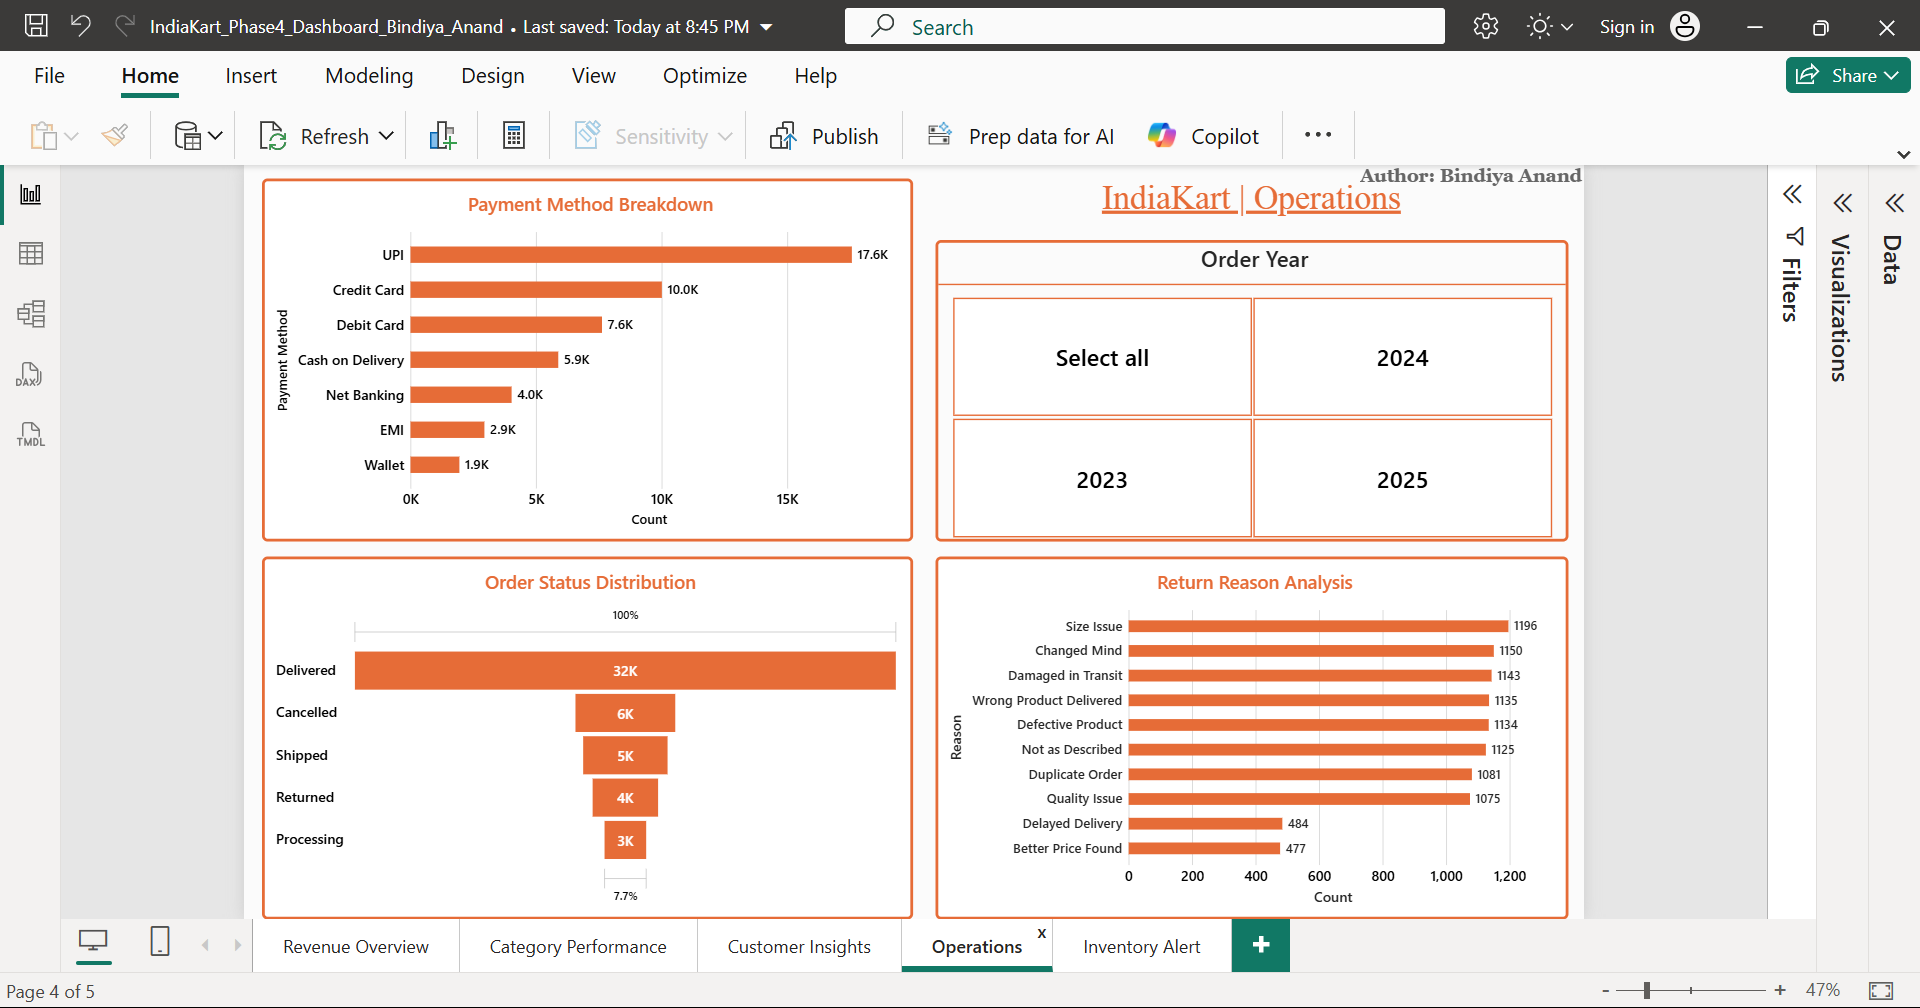

The page's visual inventory and layout, read from the dashboard file:
{"tool":"powerbi","page":{"name":"Operations","canvas":[1920,1080],"ordinal":3},"visuals":[{"type":"funnel","title":"Order Status Distribution","fields":{"Category":["orders DA.status"],"Y":["orders DA.Total Orders"]},"box":[26.2,560.7,932.9,520.1],"z":0},{"type":"textbox","box":[1107.1,19.1,672.8,62],"z":1},{"type":"clusteredBarChart","title":"Payment Method Breakdown","fields":{"Category":["payments DA.payment_method"],"Y":["CountNonNull(payments DA.payment_id)"]},"box":[26.2,19.1,932.9,520.1],"z":2},{"type":"clusteredBarChart","title":"Return Reason Analysis","fields":{"Category":["returns DA.reason"],"Y":["CountNonNull(returns DA.return_id)"]},"box":[990.2,560.7,906.6,520.1],"z":3},{"type":"slicer","title":"Order Year","fields":{"Values":["orders DA.order_date.Variation.Date Hierarchy.Year"]},"box":[990.2,107.4,906.6,431.9],"z":4}]}

Visuals, with their boxes on the page's 1920x1080 design canvas (x1, y1, x2, y2). These are canvas units, not pixel positions in the 1920x1008 screenshot, which may show the page scaled, cropped or inside an application window:
"Order Status Distribution" funnel: [26,561,959,1081]
textbox: [1107,19,1780,81]
"Payment Method Breakdown" clusteredBarChart: [26,19,959,539]
"Return Reason Analysis" clusteredBarChart: [990,561,1897,1081]
"Order Year" slicer: [990,107,1897,539]
